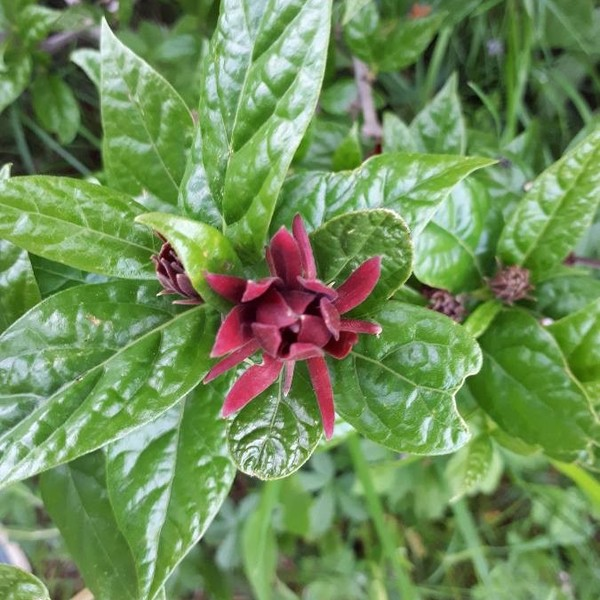obstacle: (11, 45, 453, 508), (375, 65, 579, 474)
